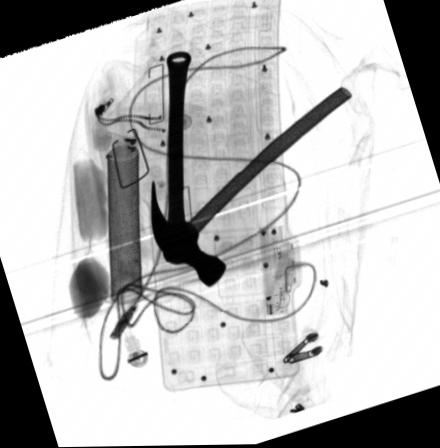Hammer: (151, 88, 351, 287)
Wrench: (162, 53, 190, 252)
